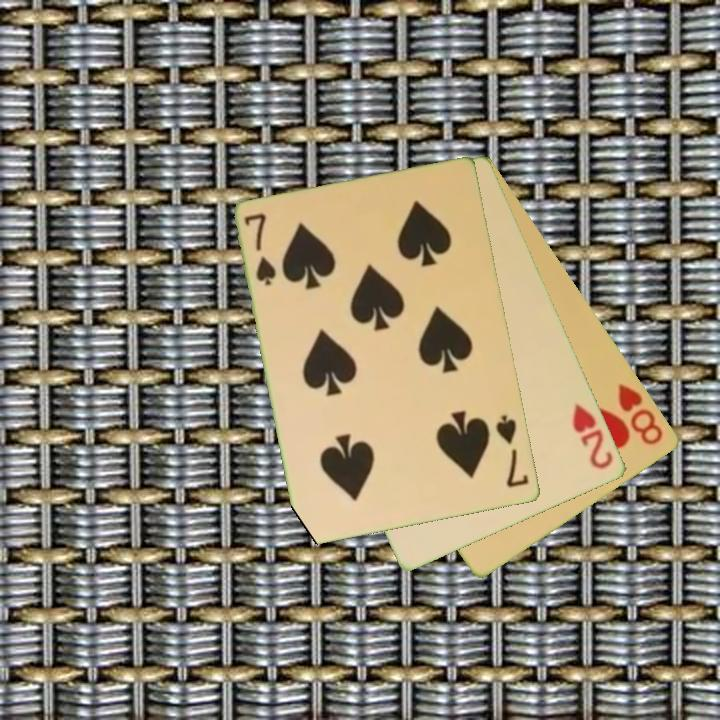2h: (569, 399, 617, 473)
7s: (493, 412, 532, 491), (241, 210, 280, 289)
8h: (615, 380, 667, 448)
